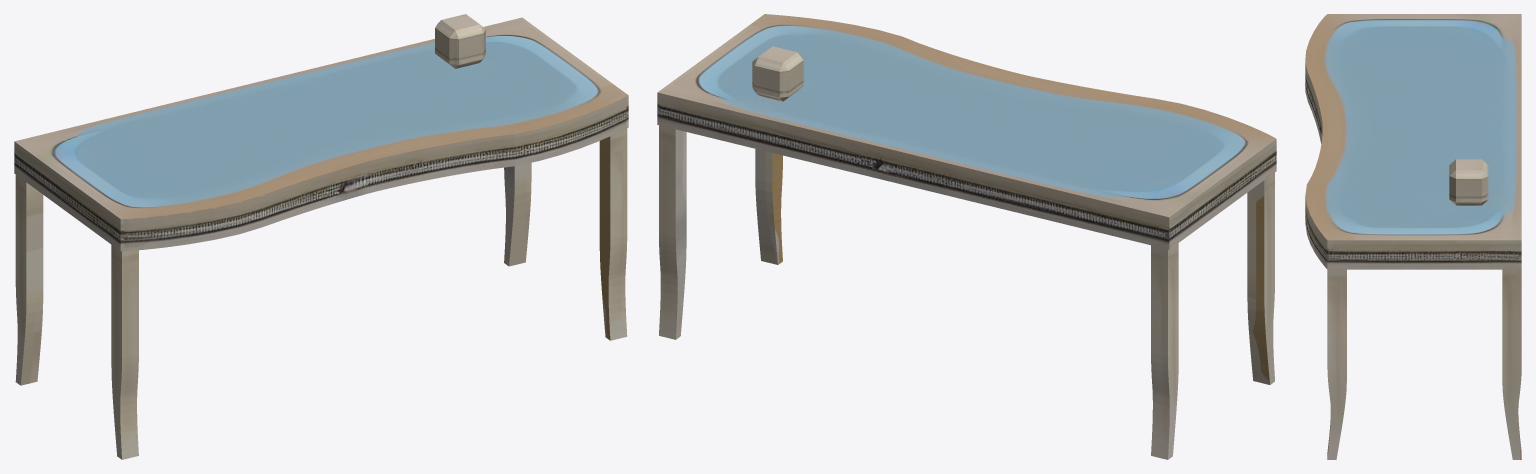
Rendered from edited_mesh.glb.
3 views of the same model, side by side, from view 1: azimuth 30°, elevation 25°; view 2: azimuth 150°, elevation 25°; view 3: azimuth 270°, elevation 25° (orthographic). The views are drawn at different scales.
Parts seen in each view (by area): view 1: solid_001_wire; view 2: solid_001_wire; view 3: solid_001_wire.
Part boxes in pixels (x1=…): solid_001_wire: x1=14, y1=14, x2=628, y2=459; solid_001_wire: x1=657, y1=14, x2=1276, y2=459; solid_001_wire: x1=1305, y1=14, x2=1521, y2=459.
Bounding box in the file's own units: 1.95 × 1.03 × 0.7881.
1 material, 1 textured.
